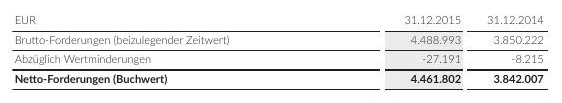table: (0, 0, 562, 103)
